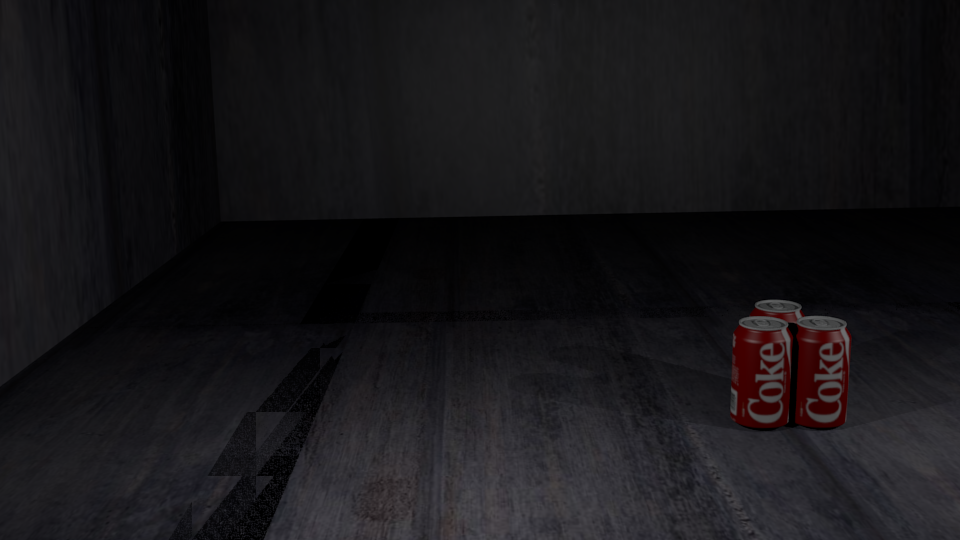cola_can: (732, 317, 792, 425), (790, 316, 850, 424), (751, 300, 805, 403)
